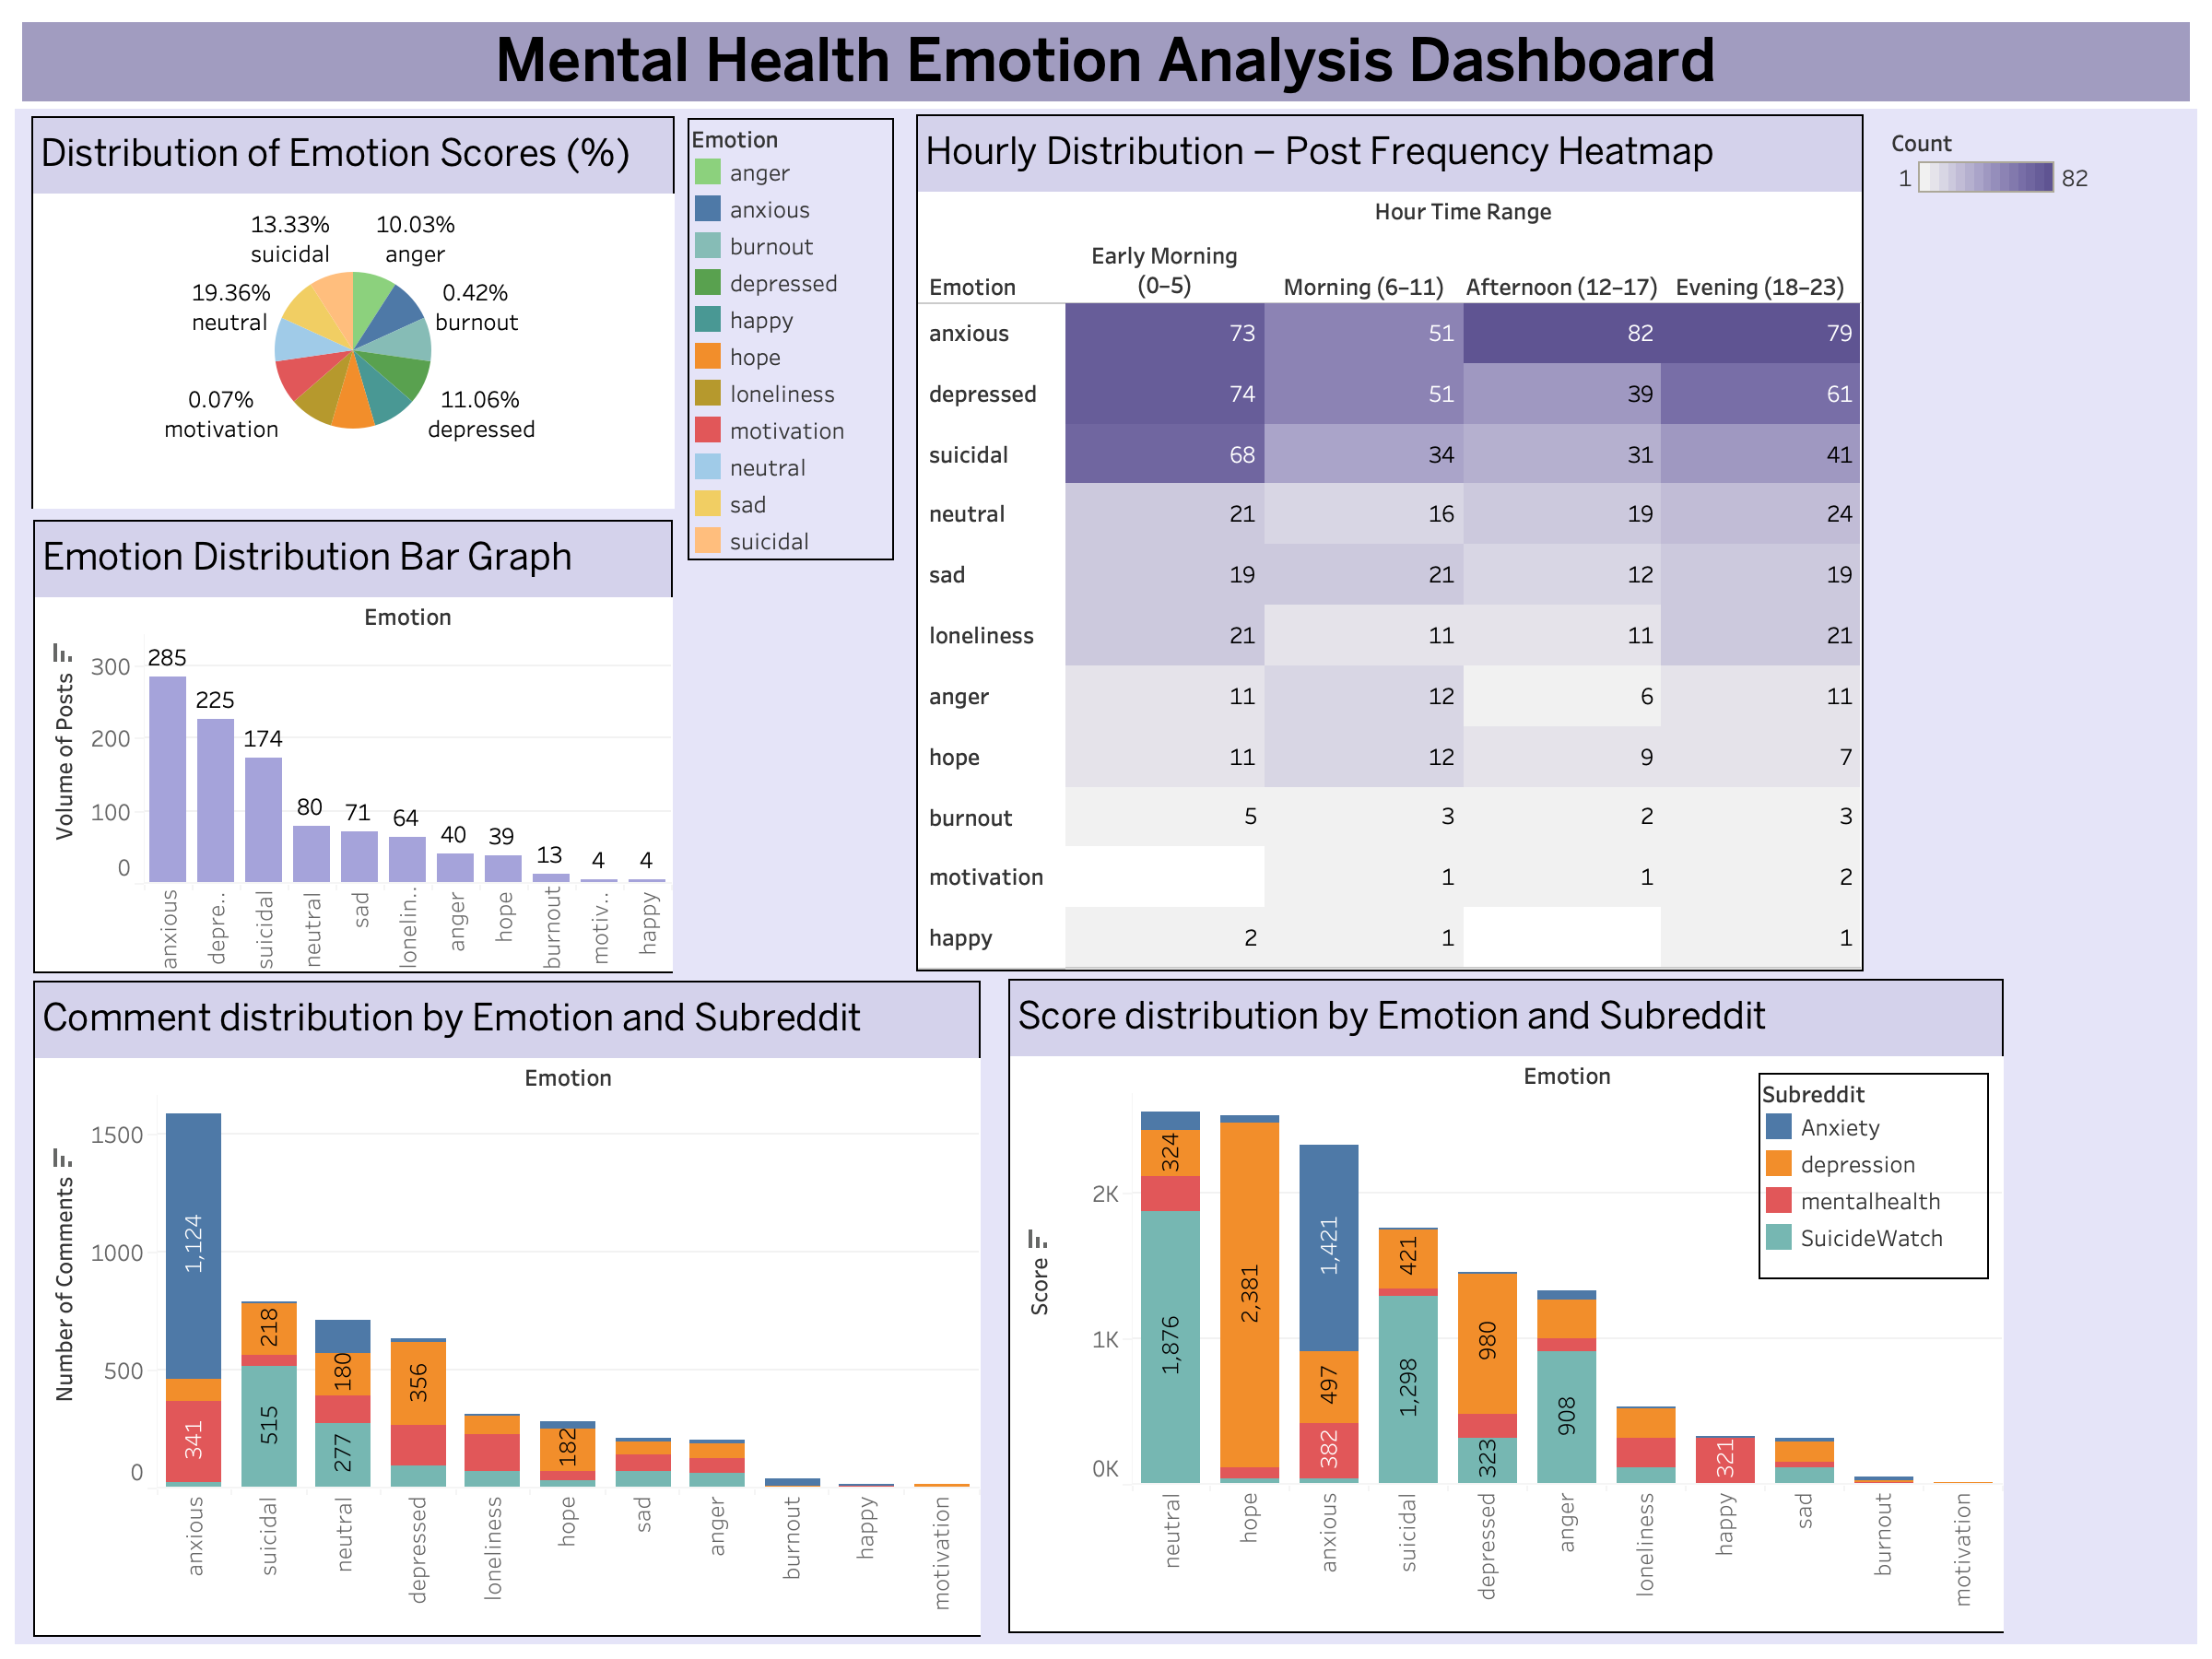

This screenshot's page, from the dashboard's own definition file:
{"tool":"tableau","page":{"name":"Mental_Health-Dashboard","canvas":[1200,900],"ordinal":0},"visuals":[{"type":"title","box":[8,8,1184,51]},{"type":"worksheet","title":"hour distribution","mark":"Square","rows":["emotion"],"cols":["Calculation_5178787736523530242"],"box":[497,62,514,465]},{"type":"worksheet","title":"pie -score","mark":"Pie","box":[17,63,349,213]},{"type":"legend","title":"pie -score","param":"[federated.0ptgtpi1dvr8uc1gppcq11twepla].[none:emotion:nk]","box":[373,64,112,240]},{"type":"legend","title":"hour distribution","param":"[federated.0ptgtpi1dvr8uc1gppcq11twepla].[__tableau_internal_object_id__].[cnt:m","box":[1026,65,112,63]},{"type":"worksheet","title":"mental heath","mark":"Automatic","rows":["mentalhealth_data_8F104E9E6E384F9A8AA63E73C4D03379"],"cols":["emotion"],"box":[18,282,347,246]},{"type":"worksheet","title":"score stack","mark":"Automatic","rows":["score"],"cols":["emotion"],"box":[547,531,540,355]},{"type":"worksheet","title":"comment-stack","mark":"Automatic","rows":["num_comments"],"cols":["emotion"],"box":[18,532,514,356]},{"type":"legend","title":"score stack","param":"[federated.0ptgtpi1dvr8uc1gppcq11twepla].[none:subreddit:nk]","box":[954,582,125,112]}]}

Visuals, with their boxes in screenshot pixels (x1, y1, x2, y2), scaled from the page's 1200x900 canvas onto the 2212x1659 screenshot:
title: locate(15, 15, 2197, 109)
"hour distribution" worksheet (Square marks): locate(916, 114, 1864, 971)
"pie -score" worksheet (Pie marks): locate(31, 116, 675, 509)
"pie -score" legend: locate(688, 118, 894, 560)
"hour distribution" legend: locate(1891, 120, 2098, 236)
"mental heath" worksheet: locate(33, 520, 673, 973)
"score stack" worksheet: locate(1008, 979, 2004, 1633)
"comment-stack" worksheet: locate(33, 981, 981, 1637)
"score stack" legend: locate(1759, 1073, 1989, 1279)
